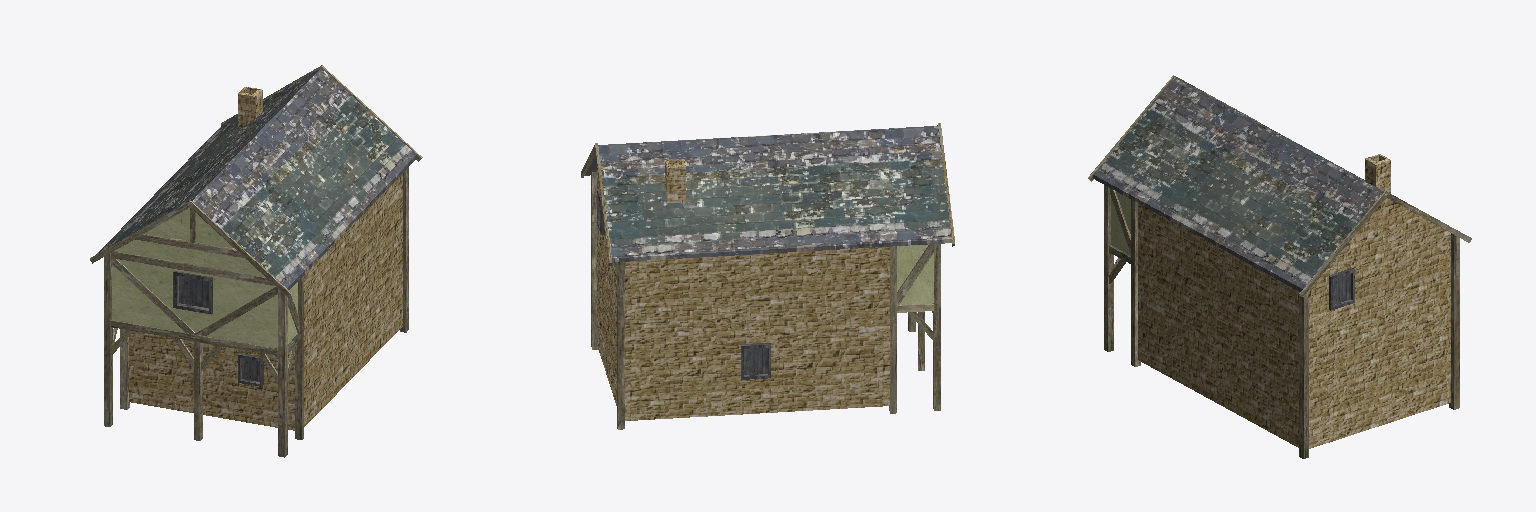
The picture shows the model from 3 angles: view 1: azimuth 30°, elevation 25°; view 2: azimuth 150°, elevation 25°; view 3: azimuth 270°, elevation 25°; orthographic projection.
Parts seen in each view (by area): view 1: Cube.001_Cube.002; view 2: Cube.001_Cube.002; view 3: Cube.001_Cube.002.
Part boxes in pixels (bbox=[...]): Cube.001_Cube.002: bbox=[90, 65, 422, 457]; Cube.001_Cube.002: bbox=[581, 123, 954, 429]; Cube.001_Cube.002: bbox=[1088, 75, 1471, 458].
Size of the model in its own units: 20.13 by 13.35 by 18.96.
Materials: 1 (1 with a texture image).